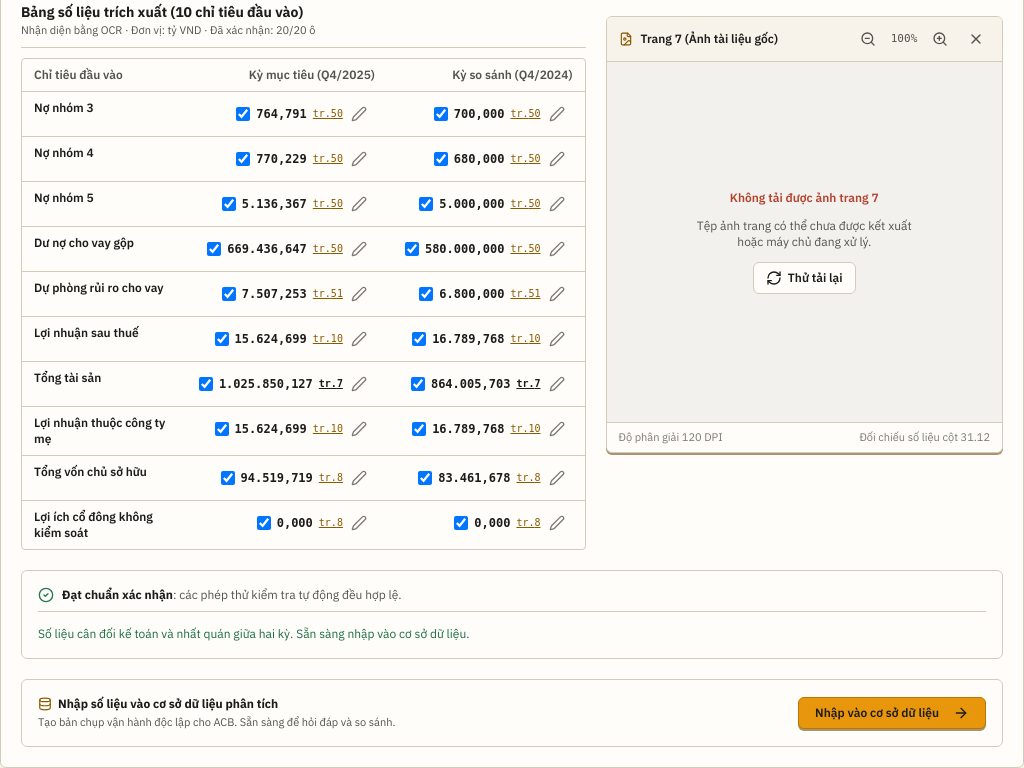
Scenario: FilingWizard (INGEST-3) › scans rendered DOM text of every wizard step to ensure no snake_case or machine periods leak to readers
The image size is (1024, 768).
(page scrolled)
Click the button with test id "confirm-filing-button" at point(892, 713), box [798,697,986,729]
(page scrolled)
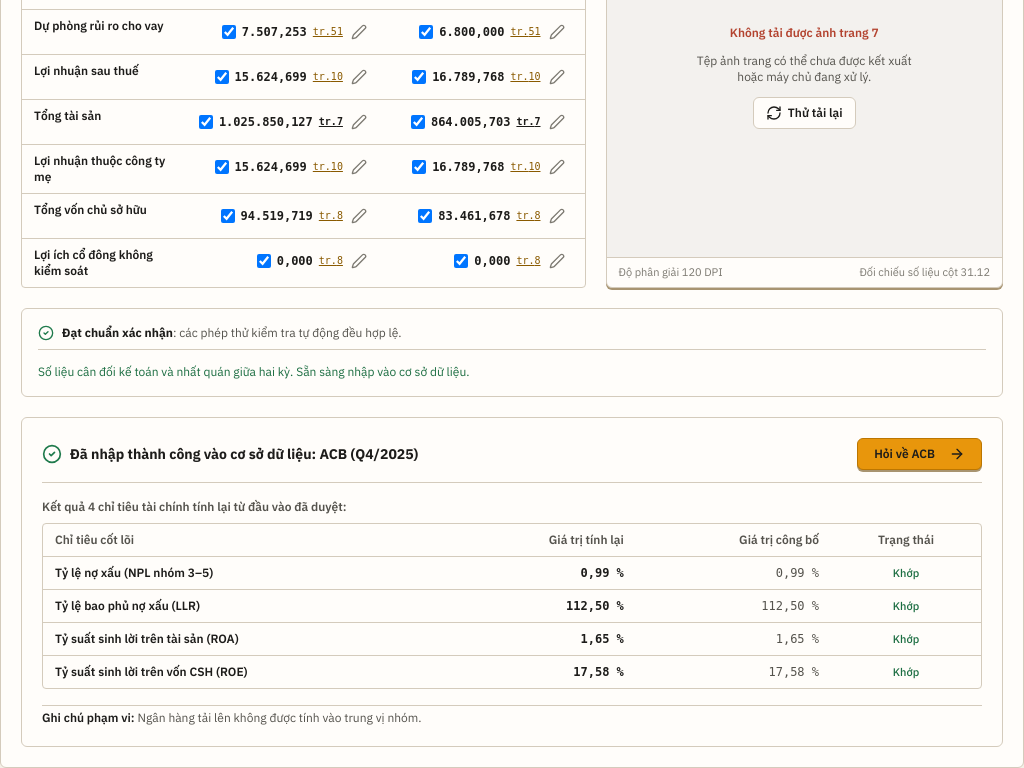
Expected: the element with test id "confirmation-result-card" is shown, [21,416,1003,746]
